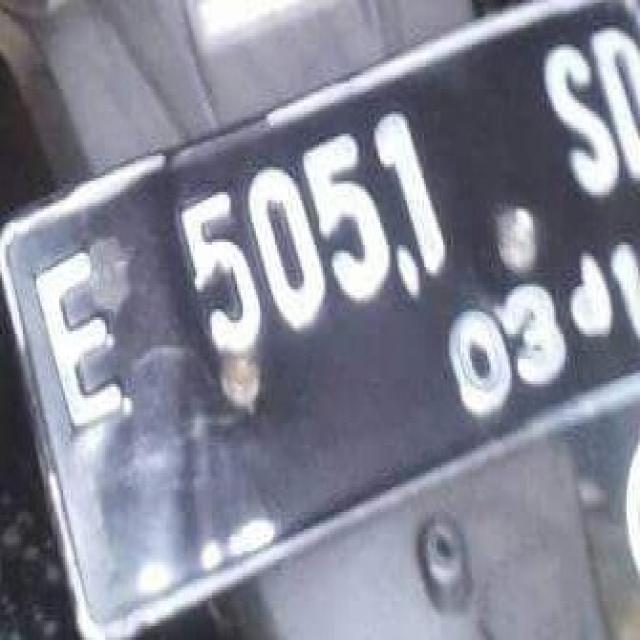plate: (1, 7, 633, 634)
